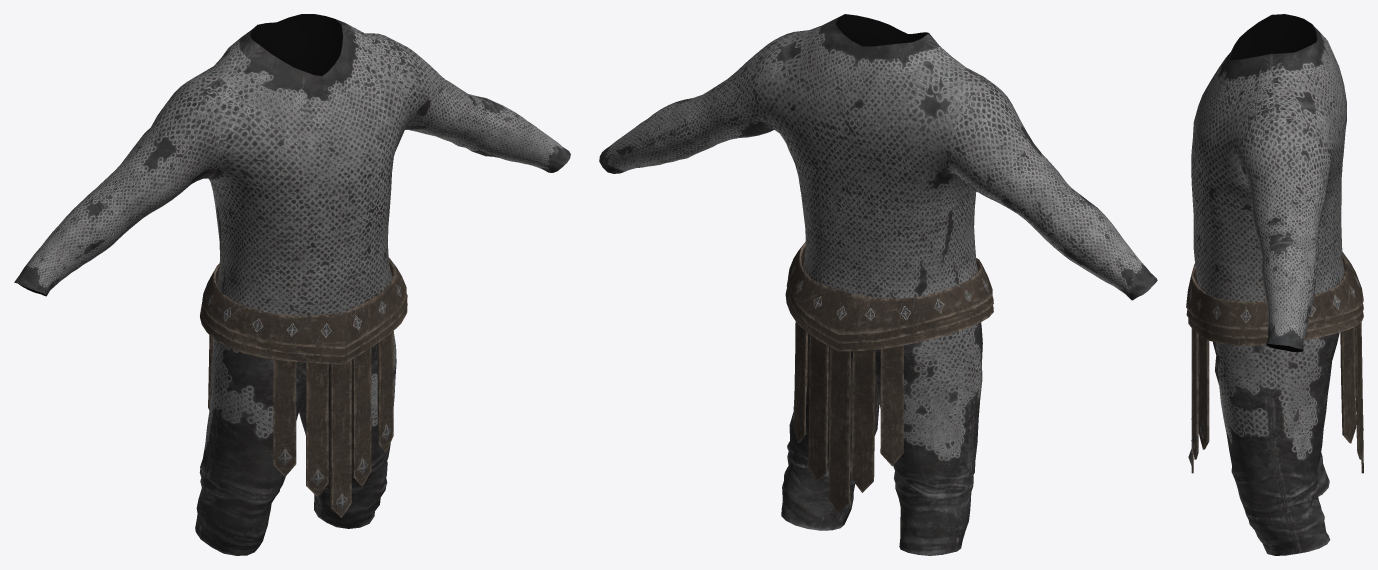
The model's file is sk_uruk_mordor_chainmail_light_a.fbx.
3 renders of one model, left to right at view 1: azimuth 30°, elevation 25°; view 2: azimuth 150°, elevation 25°; view 3: azimuth 270°, elevation 25°, orthographic. The views are drawn at different scales.
Visible parts, largest first — view 1: sk_uruk_mordor_chainmail_light_a.0, sk_uruk_mordor_chainmail_light_a.1; view 2: sk_uruk_mordor_chainmail_light_a.0, sk_uruk_mordor_chainmail_light_a.1; view 3: sk_uruk_mordor_chainmail_light_a.0, sk_uruk_mordor_chainmail_light_a.1.
Boxes of the visible parts, bbox=[...] form: sk_uruk_mordor_chainmail_light_a.0: bbox=[14, 14, 570, 555]; sk_uruk_mordor_chainmail_light_a.1: bbox=[200, 257, 407, 517]; sk_uruk_mordor_chainmail_light_a.0: bbox=[599, 14, 1157, 555]; sk_uruk_mordor_chainmail_light_a.1: bbox=[785, 242, 993, 513]; sk_uruk_mordor_chainmail_light_a.0: bbox=[1191, 14, 1346, 555]; sk_uruk_mordor_chainmail_light_a.1: bbox=[1186, 252, 1363, 473].
Bounding box in the file's own units: 1.37 × 0.3975 × 1.21.
Materials: 2 (2 with a texture image).
